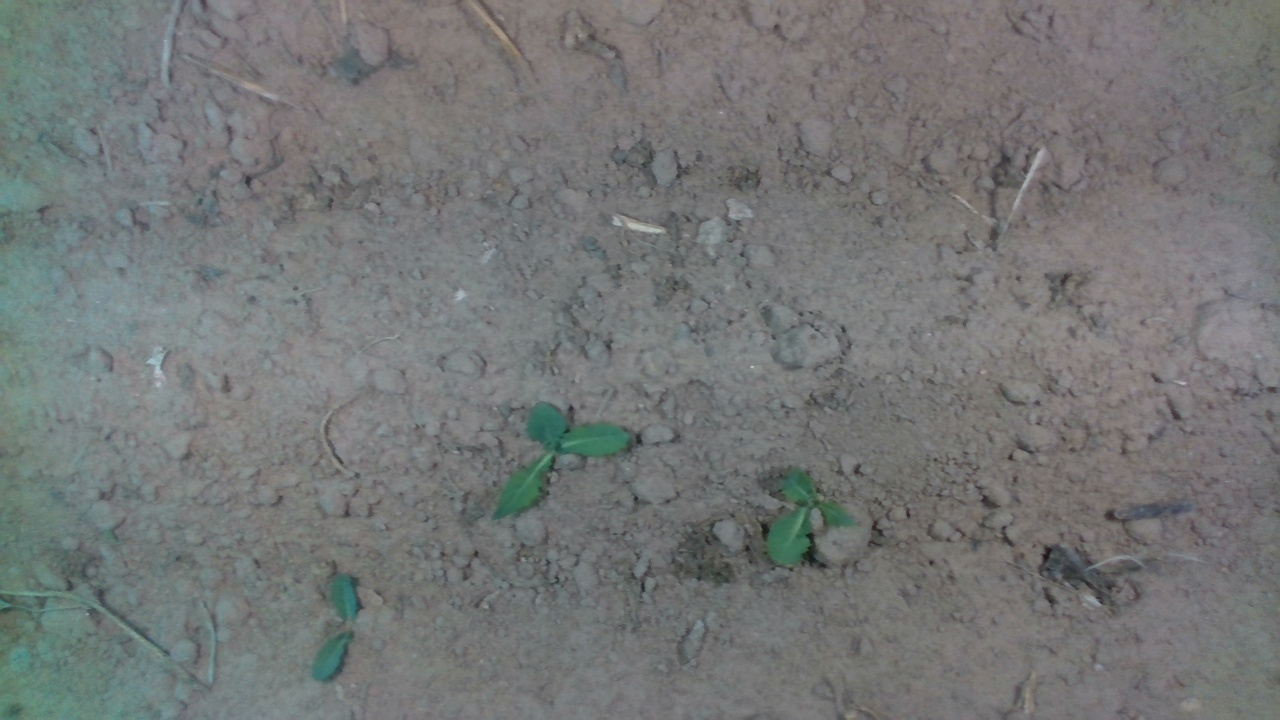weed: (488, 398, 630, 521), (765, 464, 856, 569), (309, 571, 360, 683)
